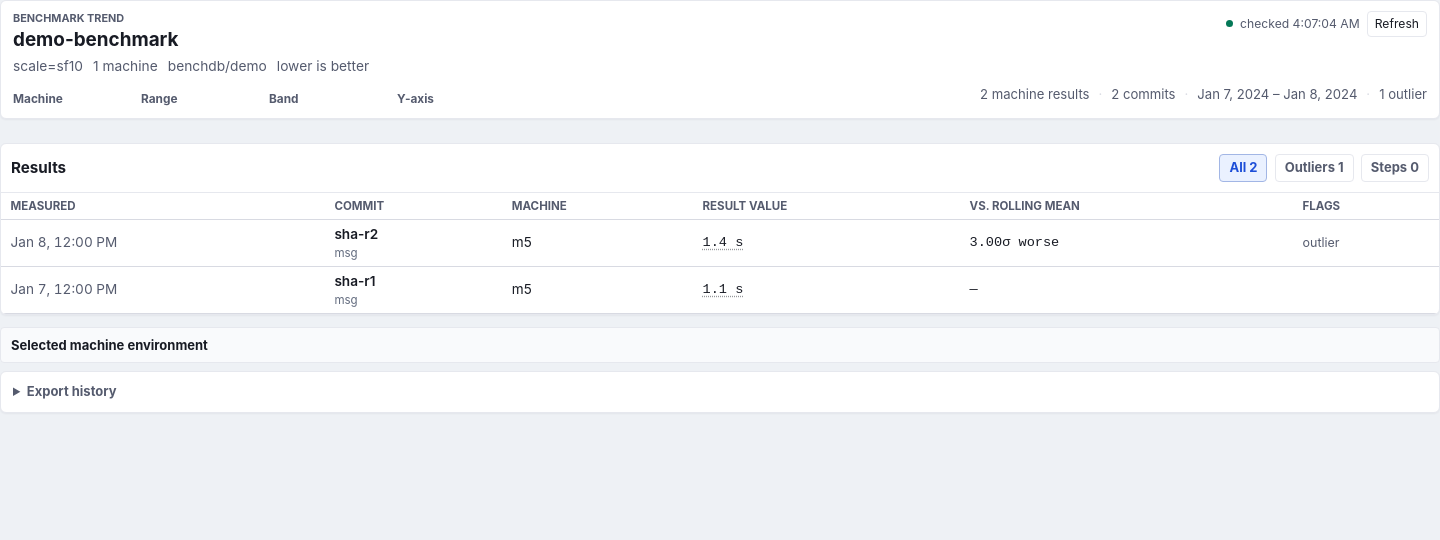
Test case: TrendPage › renders a selected-point inspector with compare and history export actions
The width and height of the screenshot is (1440, 540).
Expected: the link "sha-r2" is shown, [334,226,378,242]
Click the row "sha-r2" at (720, 243), box [1,220,1439,267]
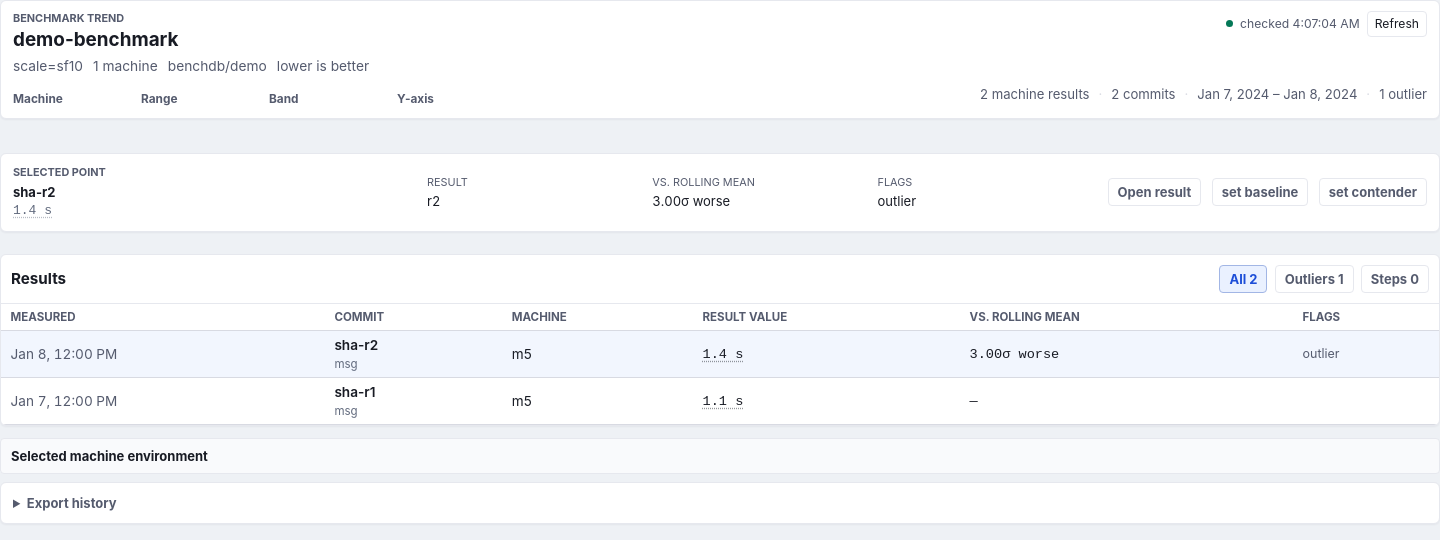
Now the text "sha-r2" below "selected point" is shown, box [13,184,56,200]
Now the text "r2" is shown, box [427,193,440,209]
Now the text "3.00σ worse" is shown, box [652,193,730,209]
